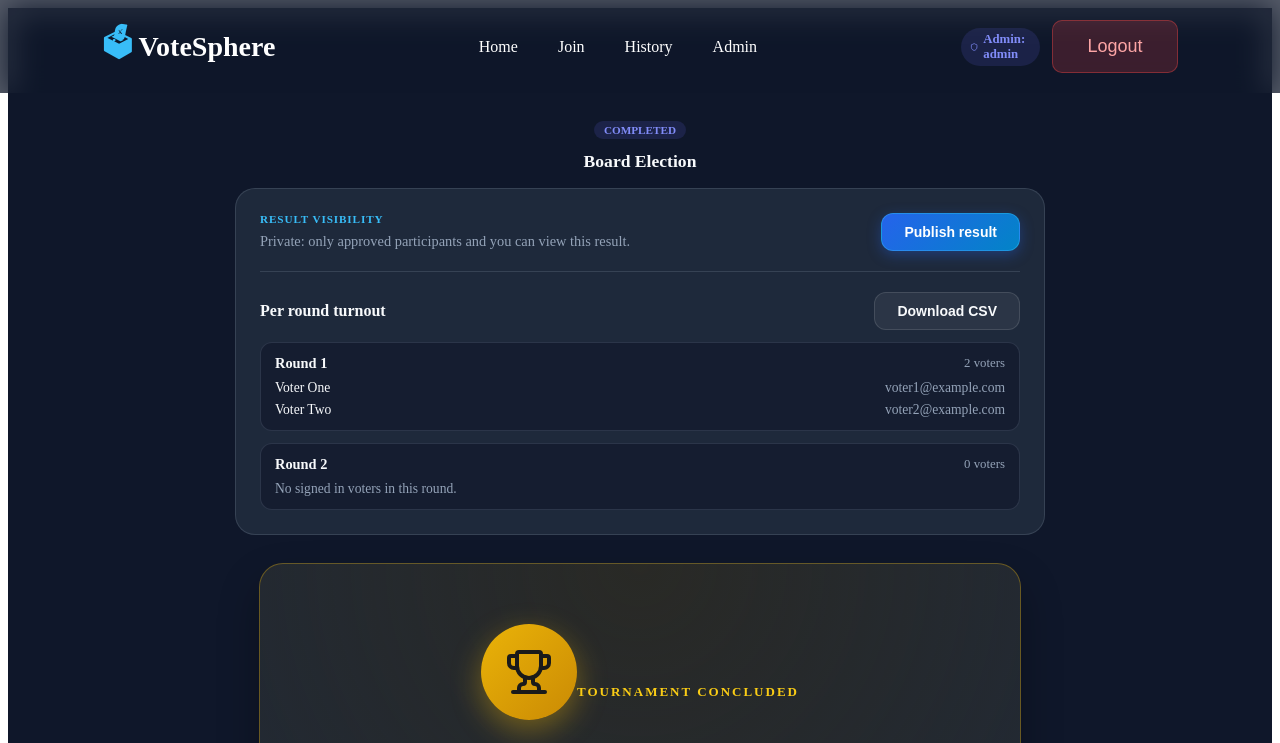
Test: Results page admin controls (AC-7, AC-12) › falls back to neutral copy when a refusal carries no message
Click the button with test id "publish-results-toggle" at (951, 232), box [881,213,1020,251]
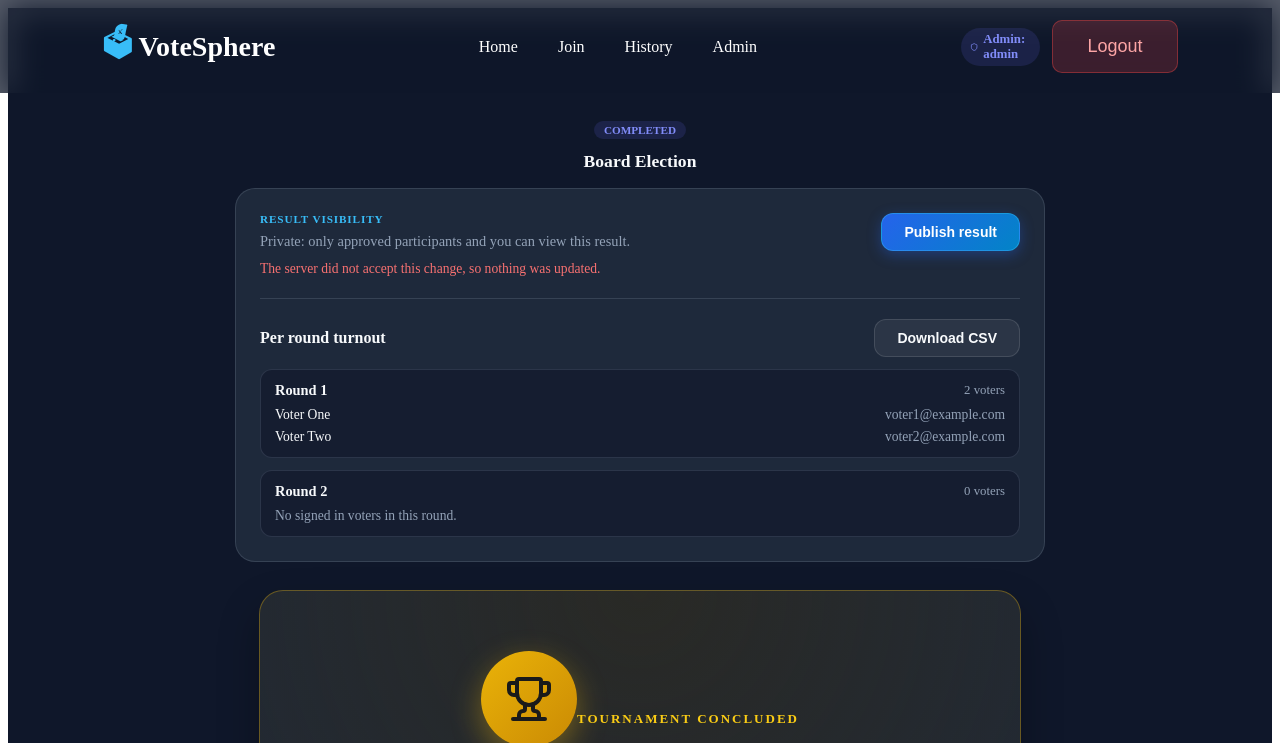
Expected: the message with test id "publish-results-error" shows "did not accept this change", [260,261,600,276]
